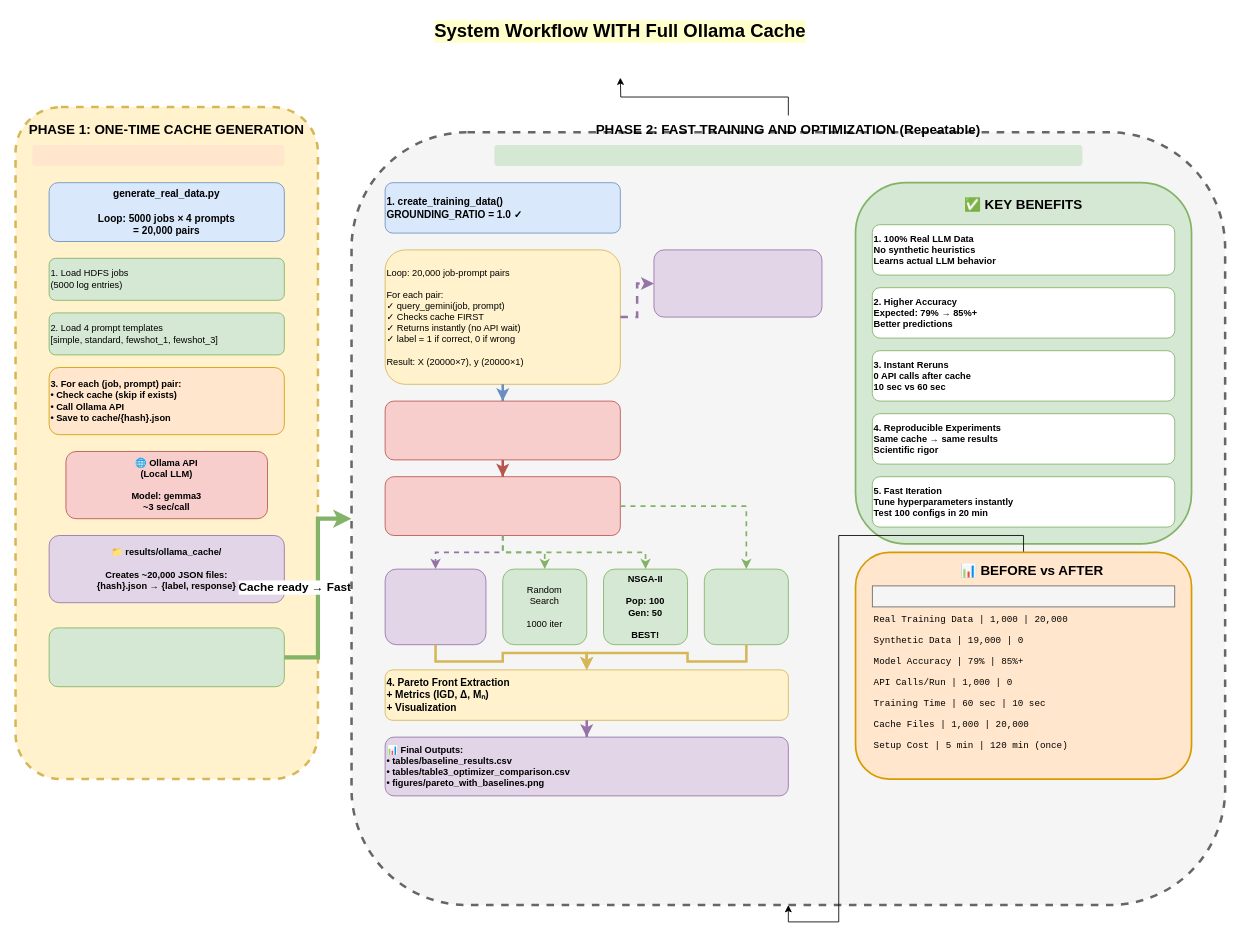
The diagram is 1241 pixels wide and 943 high, and some of its shapes have lost their labels. The centre of each missing label's shape, as x and y in pixels:
"2. train_predictor(X, y) XGBoost on 100% REAL data Expected: 85%+ accuracy" goes at (x=502, y=430).
"3. predict_probabilities() P(success | job, prompt) Matrix: 5000 × 4" goes at (x=502, y=506).
"Baseline (4 strategies) Each prompt for ALL jobs" goes at (x=435, y=606).
"Metric | Before (5%) | After (100%)" goes at (x=1023, y=596).
"SPEA2 Archive based" goes at (x=746, y=606).
"⏱ Time: 90-120 minutes (once)" goes at (x=158, y=154).
"⚡ Time: 10-15 seconds per run (NO API CALLS)" goes at (x=788, y=154).
"✅ OUTPUT: 20,000 cached LLM responses Ready for instant reuse!" goes at (x=166, y=657).
"📁 Cache Hit (100%) All 20,000 pairs cached 0 API calls needed" goes at (x=737, y=283).
